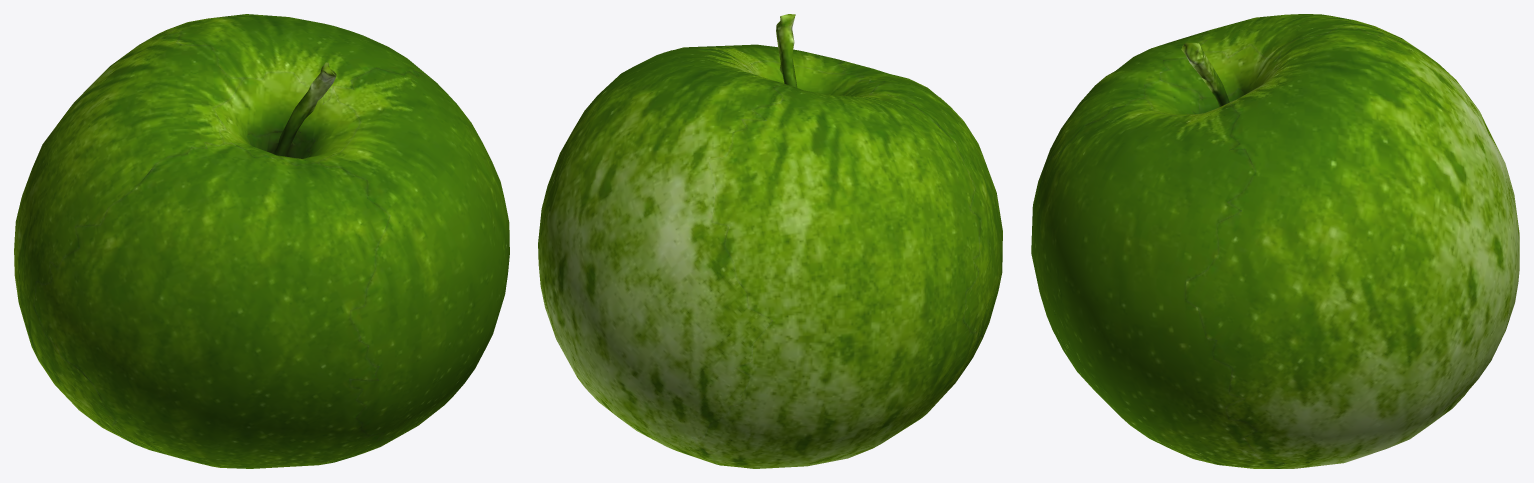
Rendered from apple.glb.
3 renders of one model, left to right at view 1: azimuth 30°, elevation 25°; view 2: azimuth 150°, elevation 25°; view 3: azimuth 270°, elevation 25°, orthographic. The views are drawn at different scales.
Visible parts, largest first — view 1: food_apple_01; view 2: food_apple_01; view 3: food_apple_01.
Part boxes in pixels (x1=…): food_apple_01: x1=14, y1=14, x2=509, y2=468; food_apple_01: x1=538, y1=14, x2=1002, y2=468; food_apple_01: x1=1031, y1=14, x2=1519, y2=468.
Size of the model in its own units: 0.0976 by 0.0854 by 0.0958.
Materials: 1 (1 with a texture image).
